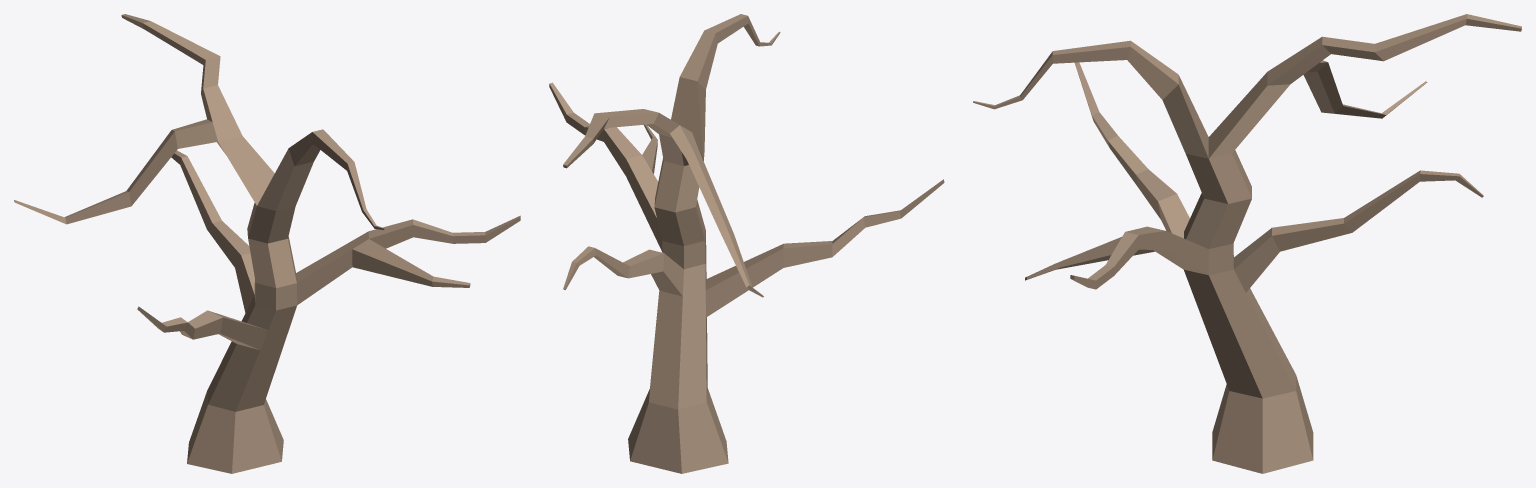
File: Dead-Tree_2.fbx
The picture shows the model from 3 angles, left to right: view 1: azimuth 30°, elevation 25°; view 2: azimuth 150°, elevation 25°; view 3: azimuth 270°, elevation 25°; orthographic projection. The views are drawn at different scales.
Visible parts, largest first — view 1: Cube.001; view 2: Cube.001; view 3: Cube.001.
Part boxes in pixels (<box>): Cube.001: <box>14,14,520,473</box>; Cube.001: <box>549,14,944,473</box>; Cube.001: <box>973,14,1521,473</box>.
Bounding box in the file's own units: 307 × 282 × 327.
